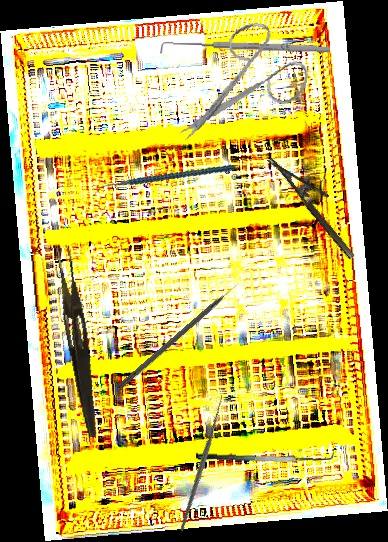Chopper: (93, 139, 235, 222)
Dressing Forceps: (48, 245, 108, 439)
Hook Surgical: (126, 389, 273, 533), (115, 280, 243, 393), (159, 38, 331, 60)
Iris Scissors: (178, 12, 316, 163)
Needle Holder: (267, 144, 369, 261)
Spatula Surgical: (195, 441, 335, 468)
